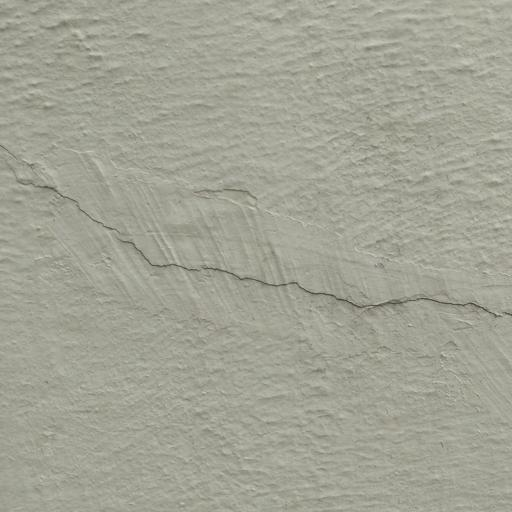minor_crack: (0, 148, 512, 346)
